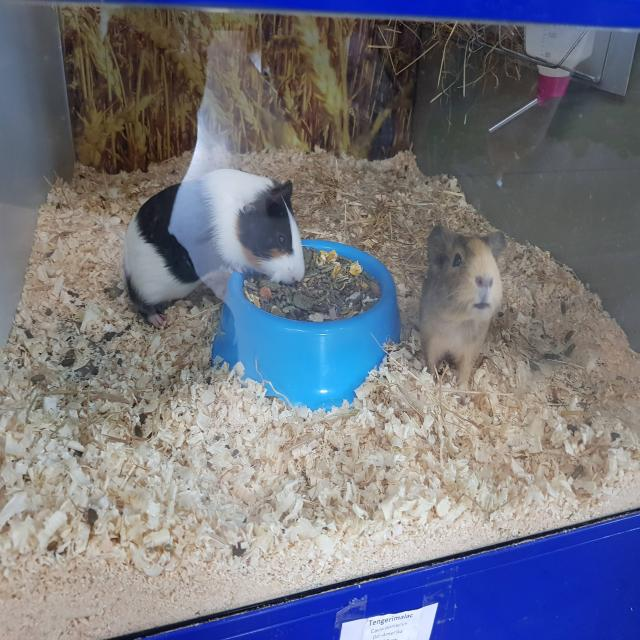guinea pig: (122, 166, 305, 330), (406, 222, 508, 405)
